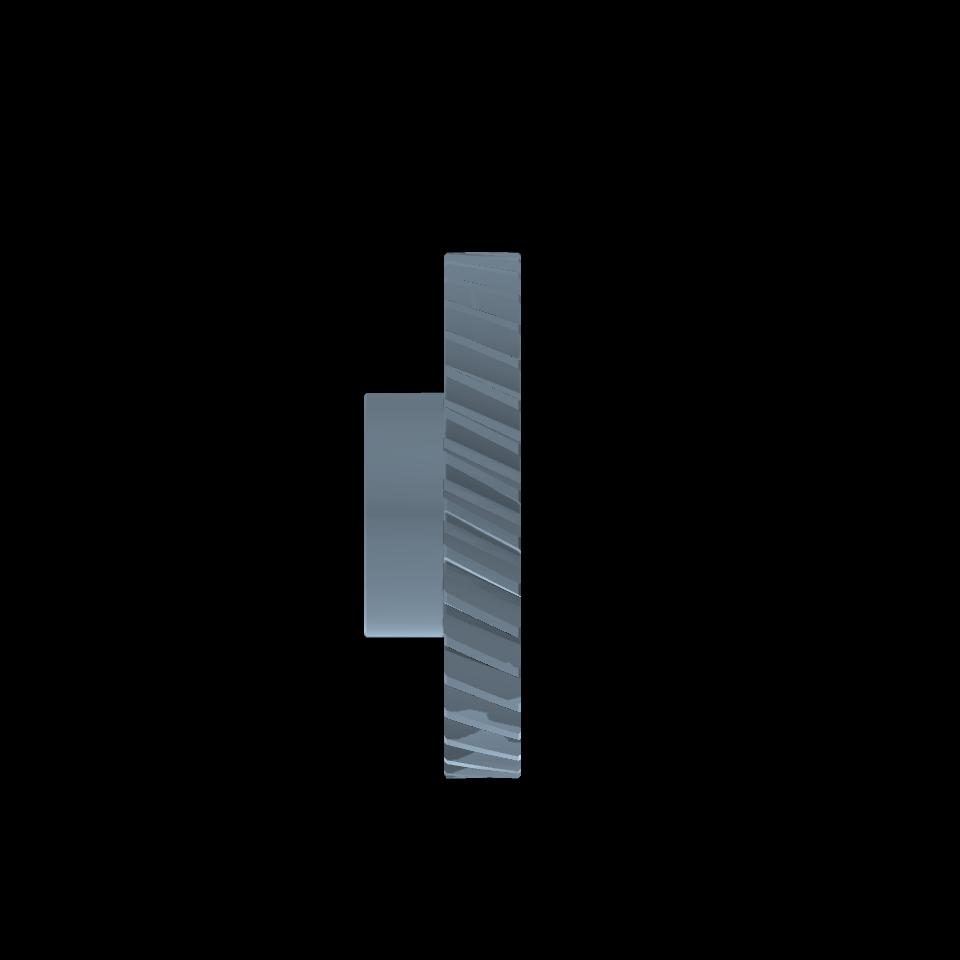Helical: (448, 252, 516, 778)
